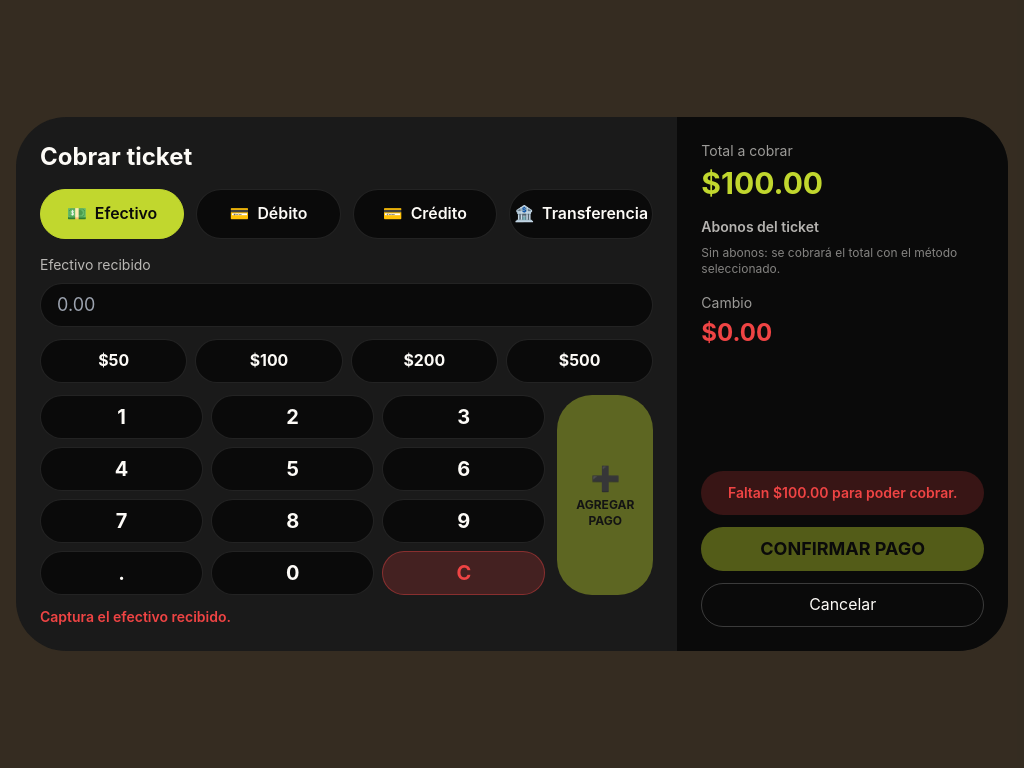
Test: F9.1.3 — editar un abono › edita el monto de un abono y recalcula el faltante
This screenshot has width=1024, height=768.
Type "40" into the number field labelled "Efectivo recibido" at (347, 305), box [40,283,653,327]
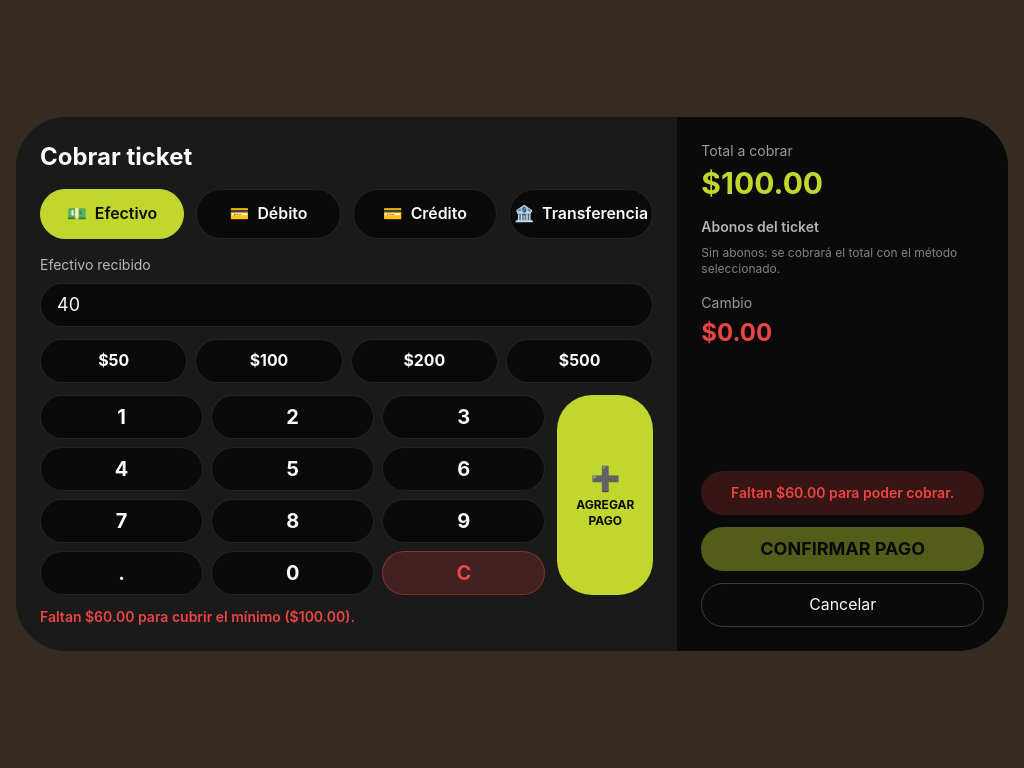
Click the button "➕ Agregar pago" at (605, 495), box [557,395,653,595]
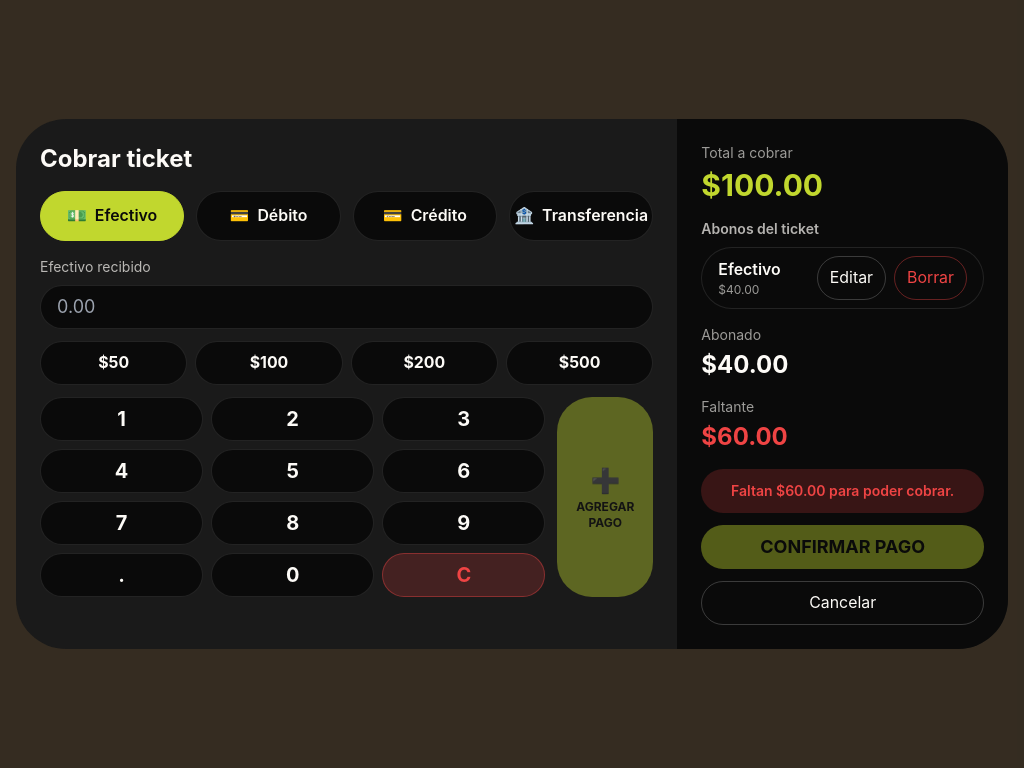
Click the button "Editar" at (851, 278), box [817,256,886,300]
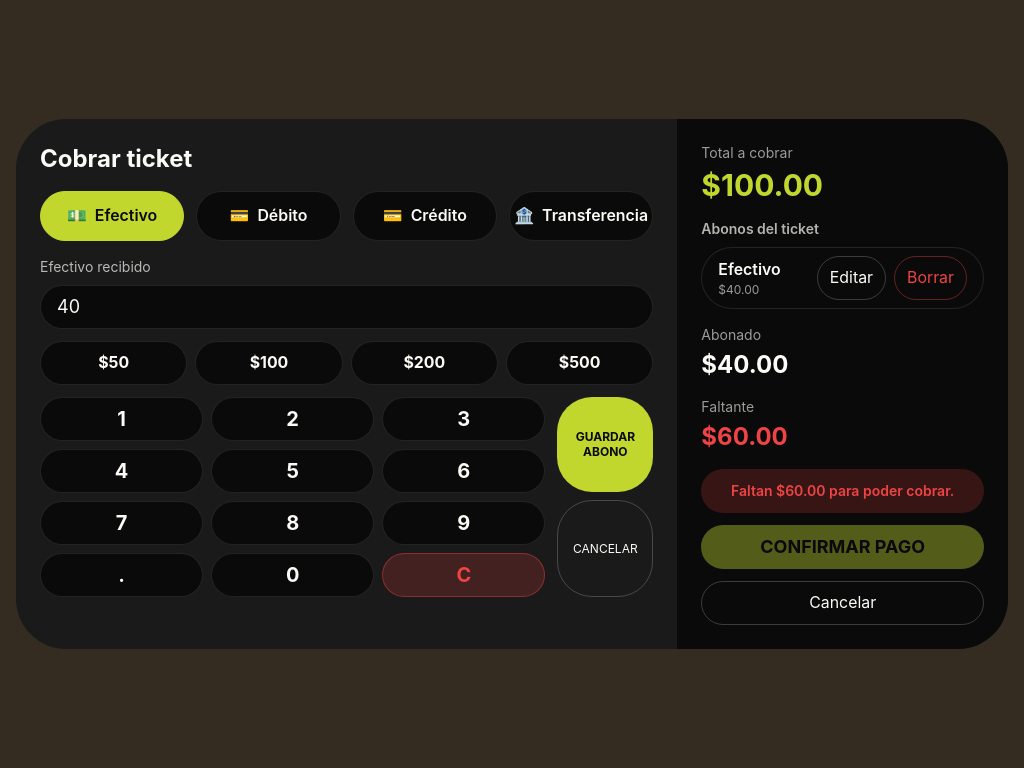
Replace the text in the number field labelled "Efectivo recibido" with "100" at (347, 307), box [40,285,653,329]
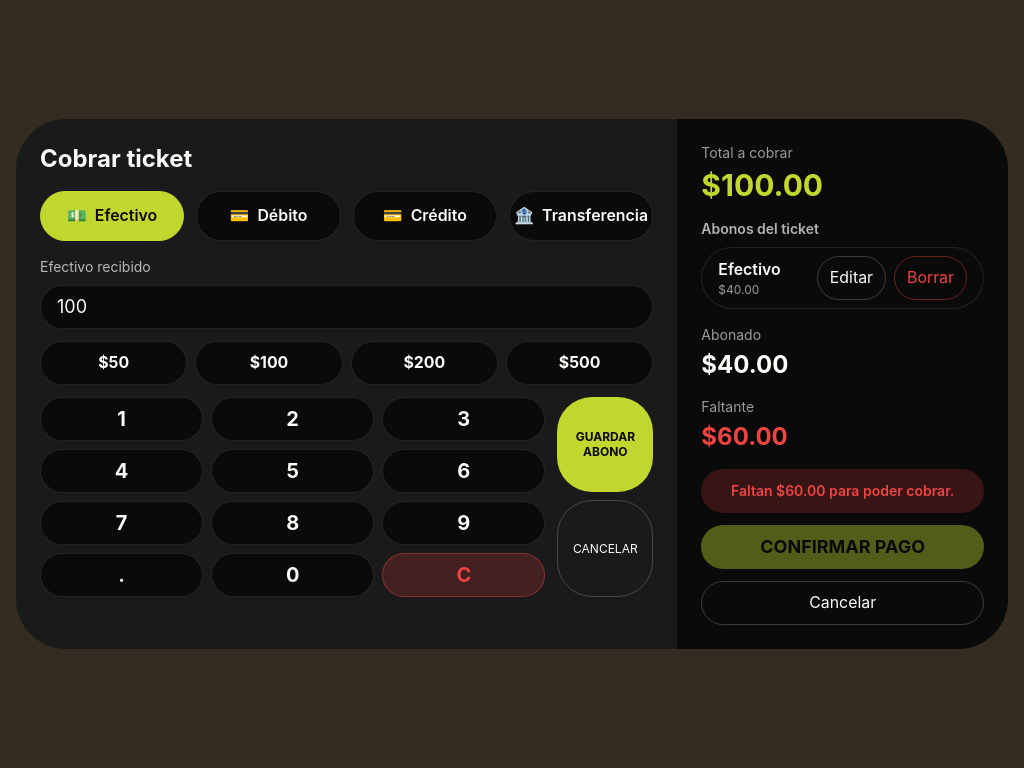
Click the button "Guardar abono" at (605, 444), box [557,397,653,492]
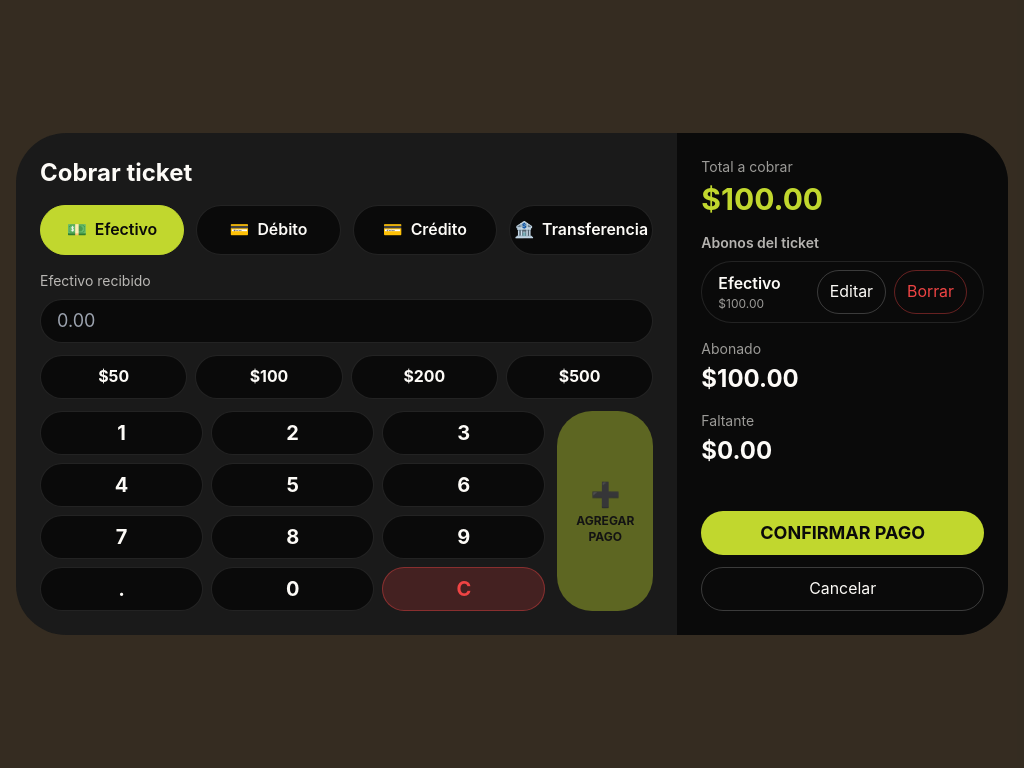
Check: the text "$0.00" is shown, box [701,436,772,465]
